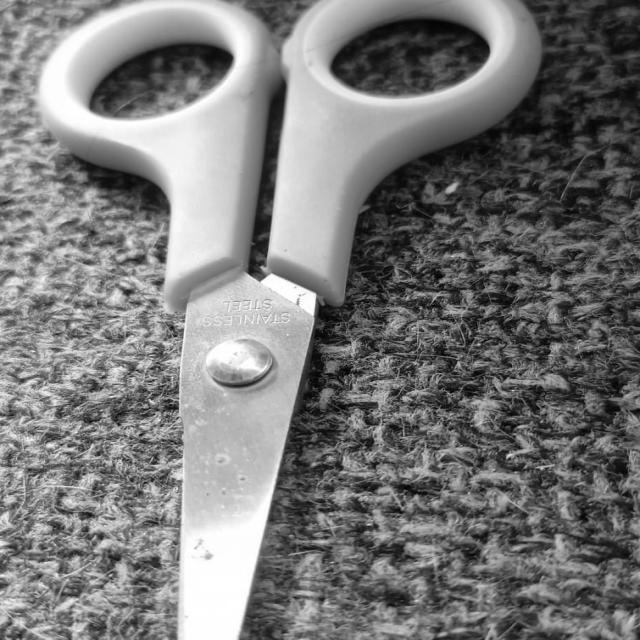tesoura: (37, 0, 543, 639)
